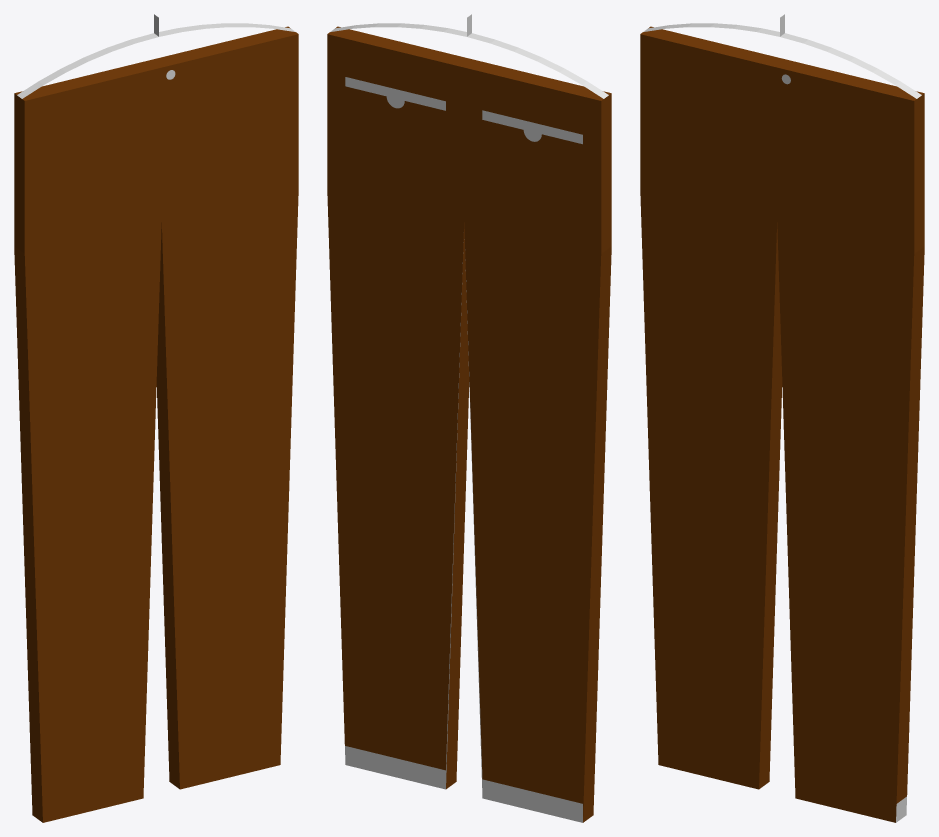
Rendered from pants-orange.dae.
3 renders of one model, left to right at view 1: azimuth 30°, elevation 25°; view 2: azimuth 150°, elevation 25°; view 3: azimuth 330°, elevation 25°, orthographic.
Parts seen in each view (by area): view 1: group_0_002, group_0_016, group_0_005, group_0_001; view 2: group_0_006, group_0_005, group_0_002, group_0_016, group_0_019, group_0_015, group_0_001; view 3: group_0_002, group_0_016, group_0_005, group_0_006, group_0_013, group_0_001.
Part boxes in pixels (x1,y1,x2,y2): group_0_002: (14, 87, 161, 822); group_0_016: (156, 53, 298, 789); group_0_005: (14, 26, 298, 219); group_0_001: (17, 23, 295, 98); group_0_006: (327, 53, 601, 816); group_0_005: (327, 26, 611, 119); group_0_002: (583, 113, 611, 822); group_0_016: (446, 222, 469, 789); group_0_019: (482, 779, 582, 822); group_0_015: (345, 746, 445, 789); group_0_001: (330, 23, 608, 98); group_0_002: (640, 53, 777, 789); group_0_016: (777, 91, 914, 822); group_0_005: (640, 26, 924, 219); group_0_006: (896, 113, 924, 803); group_0_013: (759, 222, 782, 789); group_0_001: (643, 23, 921, 98).
Size of the model in its own units: 0.381 by 0.0254 by 1.03.
